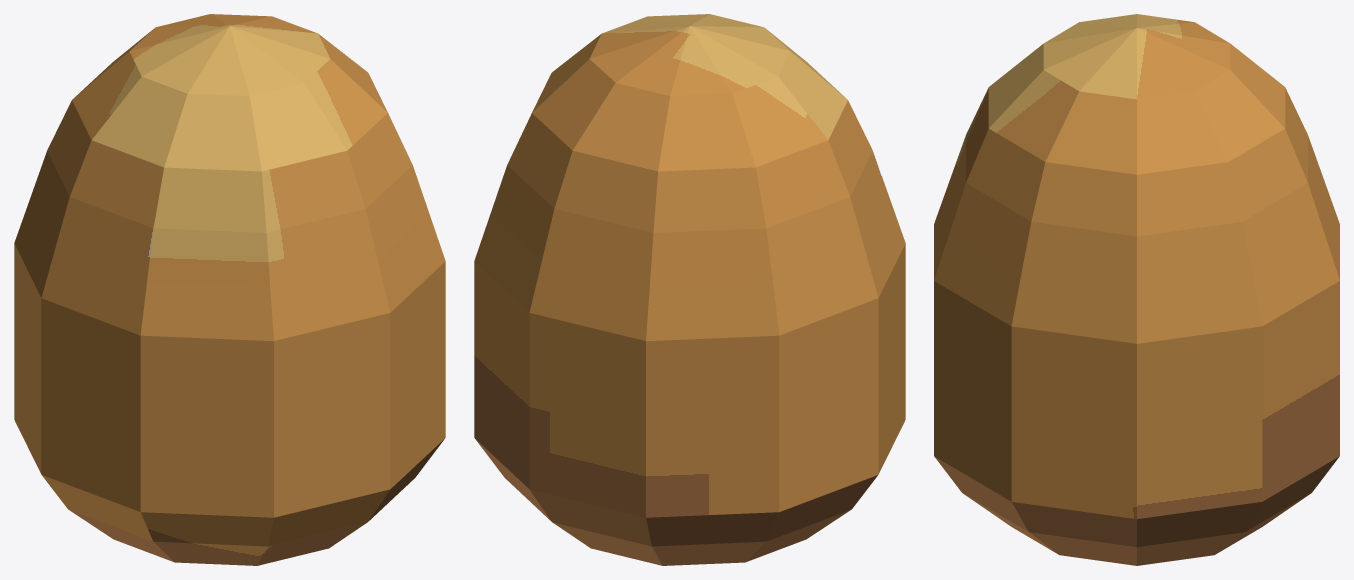
Rendered from egg.glb.
The picture shows the model from 3 angles, left to right: view 1: azimuth 30°, elevation 25°; view 2: azimuth 150°, elevation 25°; view 3: azimuth 270°, elevation 25°; orthographic projection.
Parts seen in each view (by area): view 1: sphere; view 2: sphere; view 3: sphere.
Part boxes in pixels (x1,y1,x2,y2): sphere: [14, 14, 445, 565]; sphere: [474, 14, 905, 565]; sphere: [934, 14, 1339, 565].
Bounding box in the file's own units: 0.5 × 0.625 × 0.4694.
Materials: 1 (1 with a texture image).
